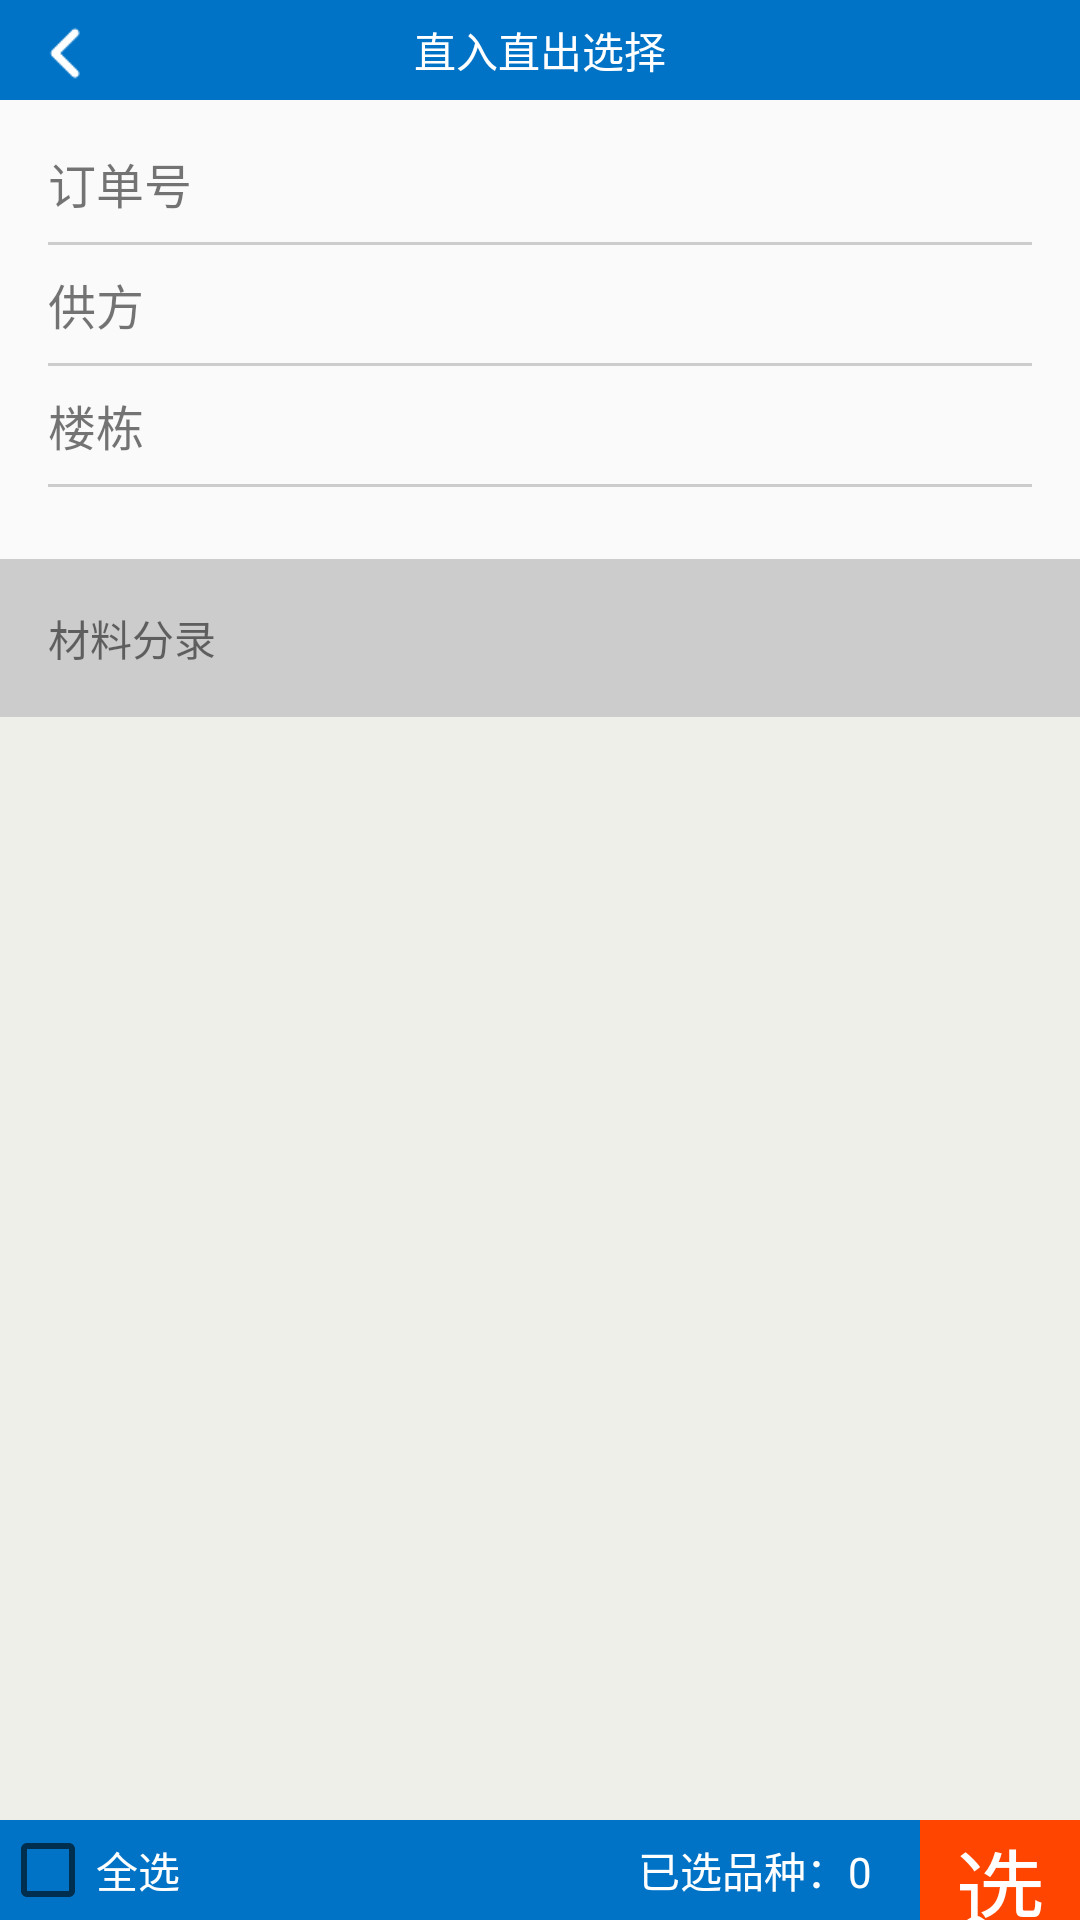

Icon bounding boxes for this 1080px x 1920px phone screenshot, format (x1, y1, x2, y2):
arrow left: (50, 28, 80, 79)
